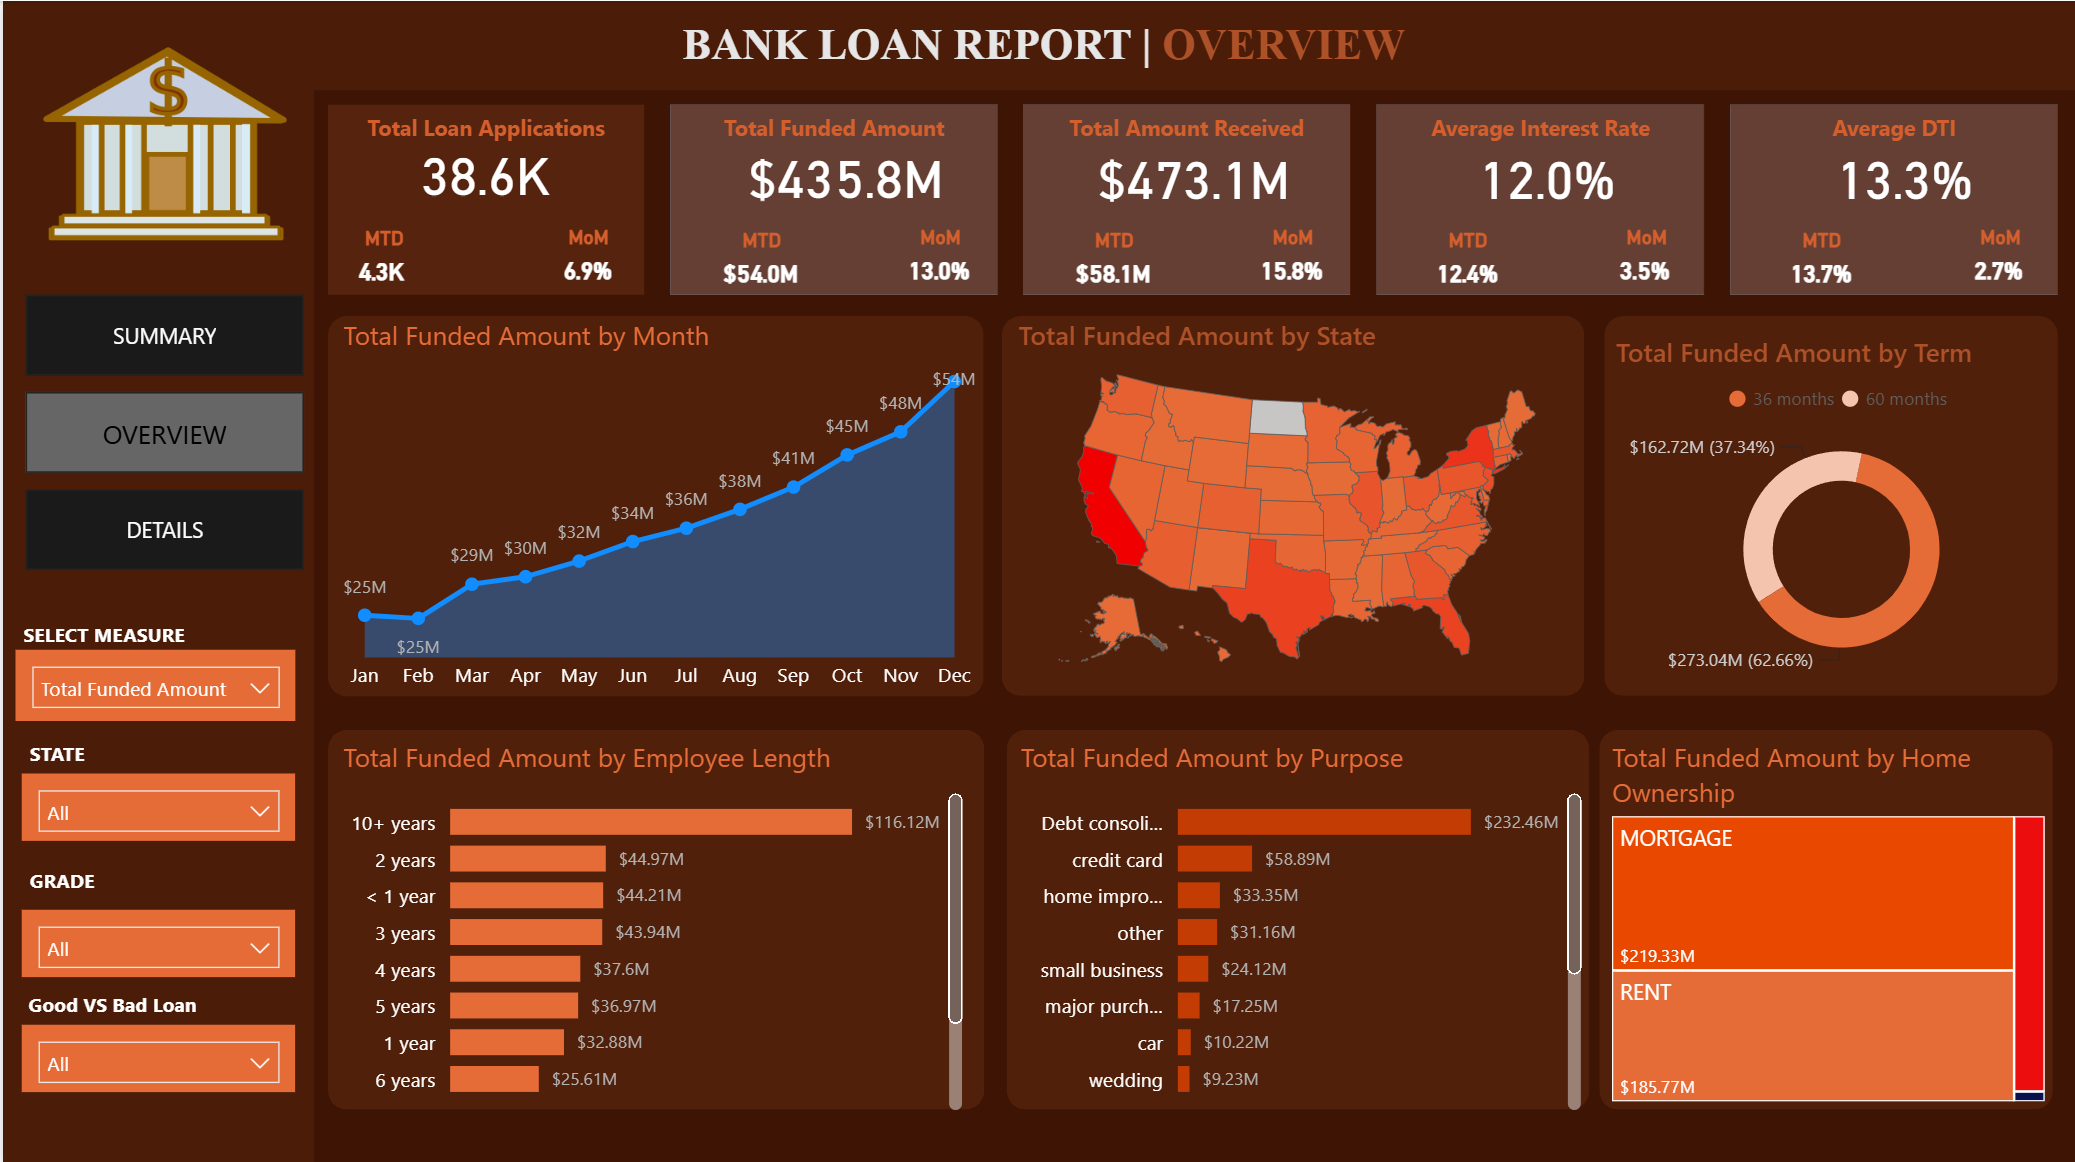

The page's visual inventory and layout, read from the dashboard file:
{"tool":"powerbi","page":{"name":"OVERVIEW","canvas":[1280,720],"ordinal":1},"visuals":[{"type":"shape","box":[0,0,1279.8,55],"z":0},{"type":"shape","box":[0,54.8,192,665.4],"z":1000},{"type":"textbox","box":[414.5,6.9,467.8,42.5],"z":2000},{"type":"group","id":"g1","title":"Group 1","box":[200.7,64.1,195.3,117.3],"z":3000},{"type":"shape","box":[200.7,64.1,195.3,117.3],"z":3000,"group":"g1"},{"type":"shape","box":[411.9,64.1,202.2,117.3],"z":3000,"group":"g2"},{"type":"shape","box":[630.1,64.1,202.2,117.3],"z":3000,"group":"g3"},{"type":"shape","box":[848.3,64.1,202.2,117.3],"z":3000,"group":"g4"},{"type":"shape","box":[1066.5,64.1,202.2,117.3],"z":3000,"group":"g5"},{"type":"group","id":"g2","title":"Group 1","box":[411.9,64.1,202.2,117.3],"z":4000},{"type":"advanceCardE03760C5AB684758B56AA29F9E6C257B","fields":{"mainMeasure":["bank_loan_data.Total Loan Applications"]},"box":[235.4,91.9,125.8,34],"z":4000,"group":"g1"},{"type":"advanceCardE03760C5AB684758B56AA29F9E6C257B","fields":{"mainMeasure":["bank_loan_data.Total Funded Amount"]},"box":[443.6,92.6,153.6,36.3],"z":4000,"group":"g2"},{"type":"advanceCardE03760C5AB684758B56AA29F9E6C257B","fields":{"mainMeasure":["bank_loan_data.Total Amount Received"]},"box":[663.2,92.6,145.1,37.8],"z":4000,"group":"g3"},{"type":"advanceCardE03760C5AB684758B56AA29F9E6C257B","fields":{"mainMeasure":["bank_loan_data.Avg Interest Rate"]},"box":[879.7,92.6,147.4,37.8],"z":4000,"group":"g4"},{"type":"advanceCardE03760C5AB684758B56AA29F9E6C257B","fields":{"mainMeasure":["bank_loan_data.Avg DTI"]},"box":[1102.4,92.6,142.8,37.8],"z":4000,"group":"g5"},{"type":"textbox","box":[200.7,64.1,195.3,27.8],"z":5000,"group":"g1"},{"type":"textbox","box":[411.9,64.1,202.2,27.8],"z":5000,"group":"g2"},{"type":"group","id":"g3","title":"Group 1","box":[630.1,64.1,202.2,117.3],"z":5000},{"type":"textbox","box":[630.1,64.1,202.2,27.8],"z":5000,"group":"g3"},{"type":"textbox","box":[848.3,64.1,202.2,27.8],"z":5000,"group":"g4"},{"type":"textbox","box":[1066.5,64.1,202.2,27.8],"z":5000,"group":"g5"},{"type":"group","id":"g4","title":"Group 1","box":[848.3,64.1,202.2,117.3],"z":6000},{"type":"advanceCardE03760C5AB684758B56AA29F9E6C257B","title":"MTD","fields":{"mainMeasure":["bank_loan_data.MTD Loan Applications"]},"box":[213,139.7,44.8,41.7],"z":6000,"group":"g1"},{"type":"advanceCardE03760C5AB684758B56AA29F9E6C257B","title":"MTD","fields":{"mainMeasure":["bank_loan_data.MTD Funded Amount"]},"box":[424.1,140.5,88,40.9],"z":6000,"group":"g2"},{"type":"advanceCardE03760C5AB684758B56AA29F9E6C257B","title":"MTD","fields":{"mainMeasure":["bank_loan_data.MTD Total Amount Received"]},"box":[642.3,140.5,88,40.9],"z":6000,"group":"g3"},{"type":"advanceCardE03760C5AB684758B56AA29F9E6C257B","title":"MTD","fields":{"mainMeasure":["bank_loan_data.MTD Avg Interest Rate"]},"box":[860.5,140.5,88,40.9],"z":6000,"group":"g4"},{"type":"advanceCardE03760C5AB684758B56AA29F9E6C257B","title":"MTD","fields":{"mainMeasure":["bank_loan_data.MTD Avg DTI"]},"box":[1078.7,140.5,88,40.9],"z":6000,"group":"g5"},{"type":"group","id":"g5","title":"Group 1","box":[1066.5,64.1,202.2,117.3],"z":7000},{"type":"advanceCardE03760C5AB684758B56AA29F9E6C257B","title":"MoM","fields":{"mainMeasure":["bank_loan_data.MoM Loan Applications"]},"box":[330.4,139,62.5,42.5],"z":7000,"group":"g1"},{"type":"advanceCardE03760C5AB684758B56AA29F9E6C257B","title":"MoM","fields":{"mainMeasure":["bank_loan_data.MoM Funded Amount"]},"box":[546.2,139,64.7,42.5],"z":7000,"group":"g2"},{"type":"advanceCardE03760C5AB684758B56AA29F9E6C257B","title":"MoM","fields":{"mainMeasure":["bank_loan_data.MoM Amount Received"]},"box":[764.4,139,64.7,42.5],"z":7000,"group":"g3"},{"type":"advanceCardE03760C5AB684758B56AA29F9E6C257B","title":"MoM","fields":{"mainMeasure":["bank_loan_data.MoM Interest Rate"]},"box":[982.6,139,64.7,42.5],"z":7000,"group":"g4"},{"type":"advanceCardE03760C5AB684758B56AA29F9E6C257B","title":"MoM","fields":{"mainMeasure":["bank_loan_data.MoM DTI"]},"box":[1200.8,139,64.7,42.5],"z":7000,"group":"g5"},{"type":"shape","box":[200.7,194.5,405,235],"z":8000},{"type":"slicer","fields":{"Values":["bank_loan_data.address_state"]},"box":[11.6,477,169,41.7],"z":9000},{"type":"textbox","box":[11.6,450,144.3,32.4],"z":10000},{"type":"slicer","fields":{"Values":["bank_loan_data.grade"]},"box":[11.6,561.2,169,41.7],"z":11000},{"type":"textbox","box":[11.6,528.7,144.3,32.4],"z":12000},{"type":"slicer","fields":{"Values":["bank_loan_data.Good vs Bad Loan"]},"box":[11.6,632.2,169,41.7],"z":13000},{"type":"textbox","box":[10.8,605.1,144.3,32.4],"z":14000},{"type":"areaChart","fields":{"Y":["bank_loan_data.Total Loan Applications"],"Category":["Date Table.Month"]},"box":[205.3,194.5,400.6,240.1],"z":15000},{"type":"slicer","fields":{"Values":["Select Measure.Select Measure"]},"box":[7.7,400.6,172.9,44],"z":16000},{"type":"textbox","box":[7.7,376.7,144.3,32.4],"z":17000},{"type":"shape","box":[616.7,194.5,359.7,234.6],"z":18000},{"type":"shapeMap","fields":{"Value":["bank_loan_data.Total Loan Applications"],"Category":["bank_loan_data.address_state"]},"box":[622.1,194.5,354.3,228.5],"z":19000},{"type":"shape","box":[988.8,194.5,280.2,234.6],"z":20000},{"type":"donutChart","fields":{"Y":["bank_loan_data.Total Loan Applications"],"Category":["bank_loan_data.term"]},"box":[991.1,205.3,288.7,217.7],"z":21000},{"type":"shape","box":[200.7,450,405.2,234.6],"z":22000},{"type":"barChart","fields":{"Y":["bank_loan_data.Total Loan Applications"],"Category":["bank_loan_data.emp_length"]},"box":[205.3,455.4,392.1,234.6],"z":23000},{"type":"shape","box":[619.8,450,359.7,234.6],"z":24000},{"type":"barChart","fields":{"Y":["bank_loan_data.Total Loan Applications"],"Category":["bank_loan_data.purpose"]},"box":[623.7,455.4,355.8,234.6],"z":25000},{"type":"shape","box":[985.7,450,280.2,234.6],"z":26000},{"type":"treemap","fields":{"Values":["bank_loan_data.Total Loan Applications"],"Group":["bank_loan_data.home_ownership"]},"box":[988.8,455.4,277.1,229.2],"z":27000},{"type":"pageNavigator","box":[13.9,181.4,172.9,172.1],"z":27001},{"type":"image","box":[20.8,28.6,158.2,118.9],"z":27002}]}

Visuals, with their boxes in screenshot pixels (x1, y1, x2, y2), scaled from the page's 1280x720 canvas onto the 2075x1162 screenshot:
shape: <box>0,0,2074,89</box>
shape: <box>0,88,311,1161</box>
textbox: <box>672,11,1430,80</box>
"Group 1" group: <box>325,103,642,293</box>
shape: <box>325,103,642,293</box>
shape: <box>668,103,996,293</box>
shape: <box>1021,103,1349,293</box>
shape: <box>1375,103,1703,293</box>
shape: <box>1729,103,2057,293</box>
"Group 1" group: <box>668,103,996,293</box>
advanceCardE03760C5AB684758B56AA29F9E6C257B - bank_loan_data.Total Loan Applications: <box>382,148,586,203</box>
advanceCardE03760C5AB684758B56AA29F9E6C257B - bank_loan_data.Total Funded Amount: <box>719,149,968,208</box>
advanceCardE03760C5AB684758B56AA29F9E6C257B - bank_loan_data.Total Amount Received: <box>1075,149,1310,210</box>
advanceCardE03760C5AB684758B56AA29F9E6C257B - bank_loan_data.Avg Interest Rate: <box>1426,149,1665,210</box>
advanceCardE03760C5AB684758B56AA29F9E6C257B - bank_loan_data.Avg DTI: <box>1787,149,2019,210</box>
textbox: <box>325,103,642,148</box>
textbox: <box>668,103,996,148</box>
"Group 1" group: <box>1021,103,1349,293</box>
textbox: <box>1021,103,1349,148</box>
textbox: <box>1375,103,1703,148</box>
textbox: <box>1729,103,2057,148</box>
"Group 1" group: <box>1375,103,1703,293</box>
"MTD" advanceCardE03760C5AB684758B56AA29F9E6C257B: <box>345,225,418,293</box>
"MTD" advanceCardE03760C5AB684758B56AA29F9E6C257B: <box>688,227,830,293</box>
"MTD" advanceCardE03760C5AB684758B56AA29F9E6C257B: <box>1041,227,1184,293</box>
"MTD" advanceCardE03760C5AB684758B56AA29F9E6C257B: <box>1395,227,1538,293</box>
"MTD" advanceCardE03760C5AB684758B56AA29F9E6C257B: <box>1749,227,1891,293</box>
"Group 1" group: <box>1729,103,2057,293</box>
"MoM" advanceCardE03760C5AB684758B56AA29F9E6C257B: <box>536,224,637,293</box>
"MoM" advanceCardE03760C5AB684758B56AA29F9E6C257B: <box>885,224,990,293</box>
"MoM" advanceCardE03760C5AB684758B56AA29F9E6C257B: <box>1239,224,1344,293</box>
"MoM" advanceCardE03760C5AB684758B56AA29F9E6C257B: <box>1593,224,1698,293</box>
"MoM" advanceCardE03760C5AB684758B56AA29F9E6C257B: <box>1947,224,2051,293</box>
shape: <box>325,314,982,693</box>
slicer - bank_loan_data.address_state: <box>19,770,293,837</box>
textbox: <box>19,726,253,779</box>
slicer - bank_loan_data.grade: <box>19,906,293,973</box>
textbox: <box>19,853,253,906</box>
slicer - bank_loan_data.Good vs Bad Loan: <box>19,1020,293,1088</box>
textbox: <box>18,977,251,1029</box>
areaChart - bank_loan_data.Total Loan Applications x Date Table.Month: <box>333,314,982,701</box>
slicer - Select Measure.Select Measure: <box>12,647,293,718</box>
textbox: <box>12,608,246,660</box>
shape: <box>1000,314,1583,693</box>
shapeMap - bank_loan_data.Total Loan Applications x bank_loan_data.address_state: <box>1008,314,1583,683</box>
shape: <box>1603,314,2057,693</box>
donutChart - bank_loan_data.Total Loan Applications x bank_loan_data.term: <box>1607,331,2074,683</box>
shape: <box>325,726,982,1105</box>
barChart - bank_loan_data.Total Loan Applications x bank_loan_data.emp_length: <box>333,735,968,1114</box>
shape: <box>1005,726,1588,1105</box>
barChart - bank_loan_data.Total Loan Applications x bank_loan_data.purpose: <box>1011,735,1588,1114</box>
shape: <box>1598,726,2052,1105</box>
treemap - bank_loan_data.Total Loan Applications x bank_loan_data.home_ownership: <box>1603,735,2052,1105</box>
pageNavigator: <box>23,293,303,571</box>
image: <box>34,46,290,238</box>
